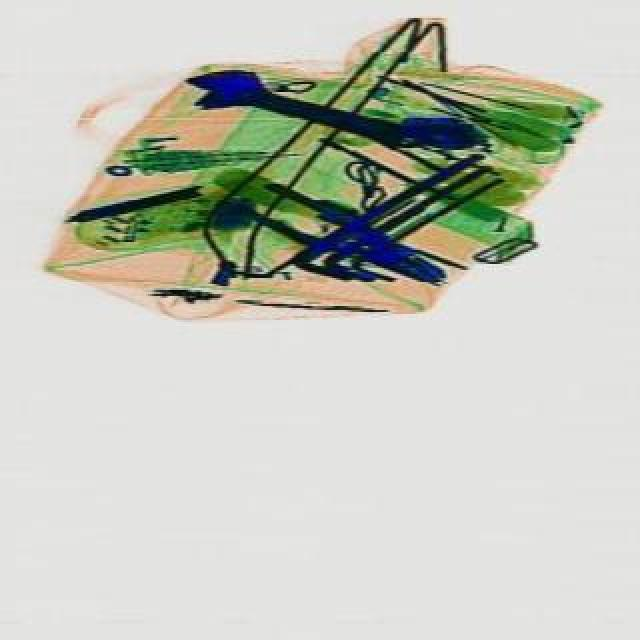scissors: (180, 52, 436, 172)
wrench: (248, 176, 454, 302)
